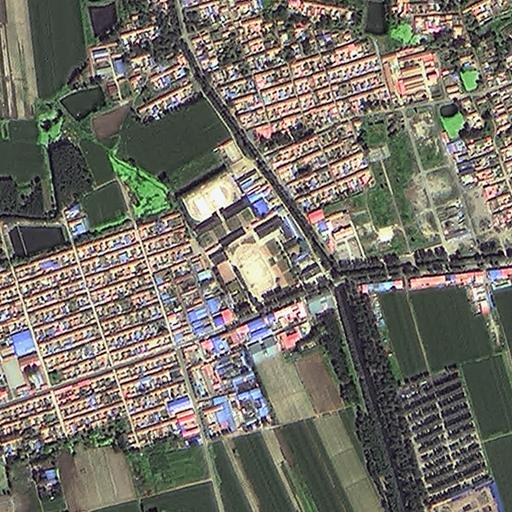school: (206, 212, 291, 307), (175, 158, 268, 225)
